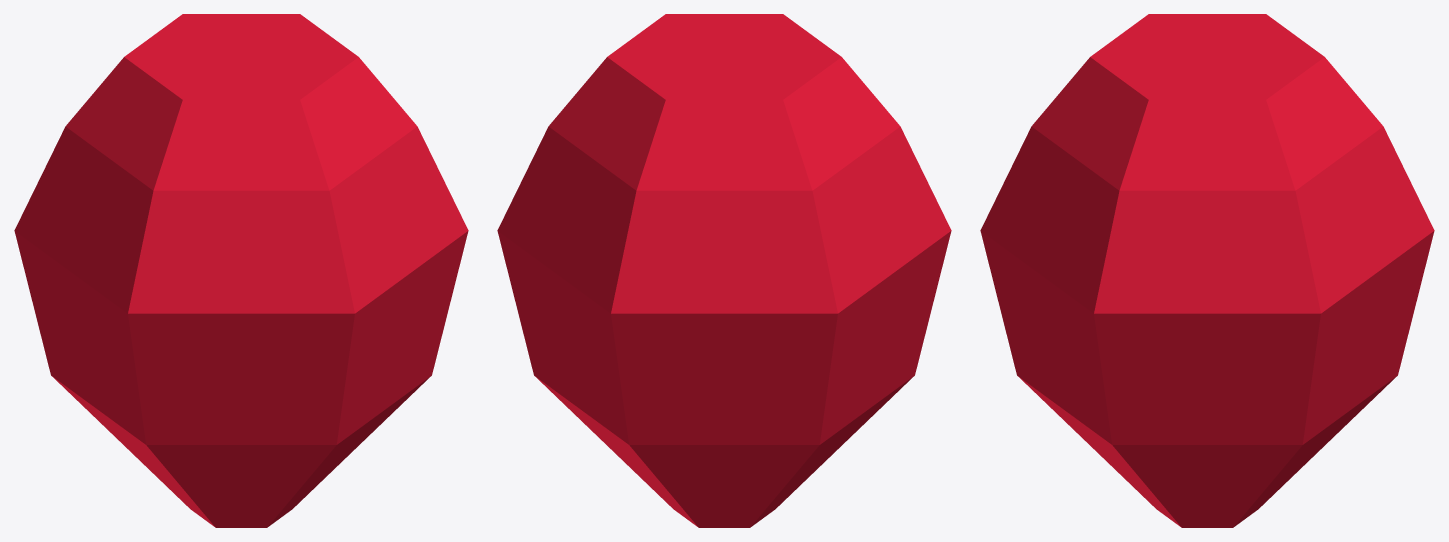
Rendered from radish.obj.
3 views of the same model, side by side, from view 1: azimuth 30°, elevation 25°; view 2: azimuth 150°, elevation 25°; view 3: azimuth 270°, elevation 25° (orthographic).
Parts seen in each view (by area): view 1: radish.001; view 2: radish.001; view 3: radish.001.
Part boxes in pixels (x1,y1,x2,y2): radish.001: (14, 14, 468, 527); radish.001: (497, 14, 951, 527); radish.001: (980, 14, 1434, 527).
Size of the model in its own units: 0.1026 by 0.1303 by 0.1185.
